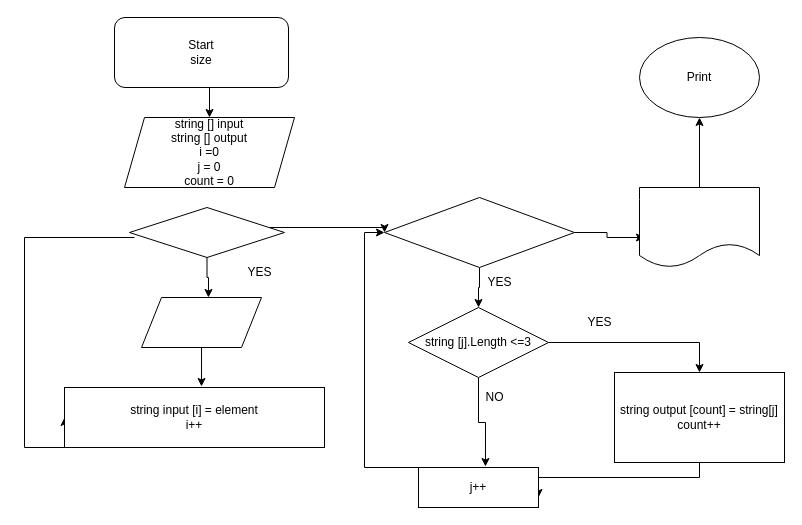
Image size: 802x525. Some labels were removed from this diagram. Each missing label, with the centre of its shape:
element: the point at 201,322
i < size: the point at 206,232
j < size: the point at 479,232
string [] output: the point at 699,227
